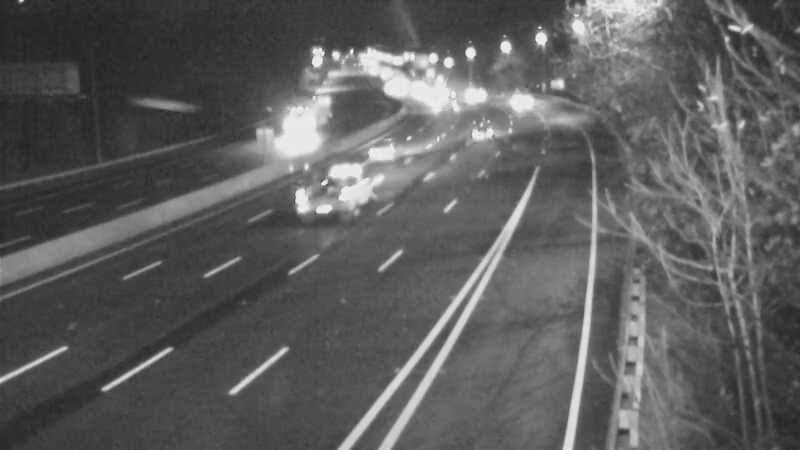vehicle: (298, 152, 378, 232), (447, 67, 497, 117), (494, 75, 544, 125), (417, 77, 467, 127), (456, 108, 506, 158), (357, 123, 407, 173), (285, 96, 335, 146)
